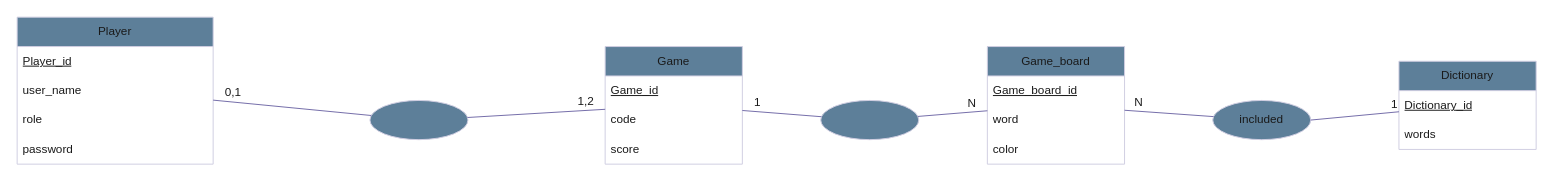
Some shapes in this 1553 by 181 pixel diagram are drawn without their labels. Here are the shapes that lost their labels. From the top down, the box of each, then its label:
(369, 99, 468, 140): Participate
(820, 99, 919, 140): Contains
